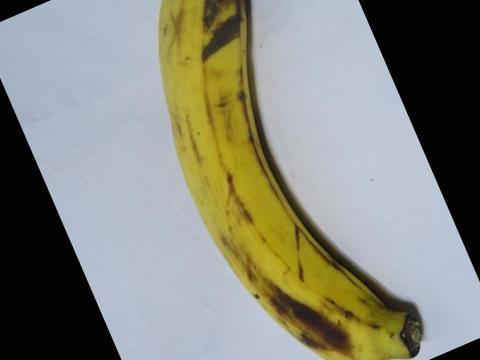overripe: (148, 0, 429, 359)
